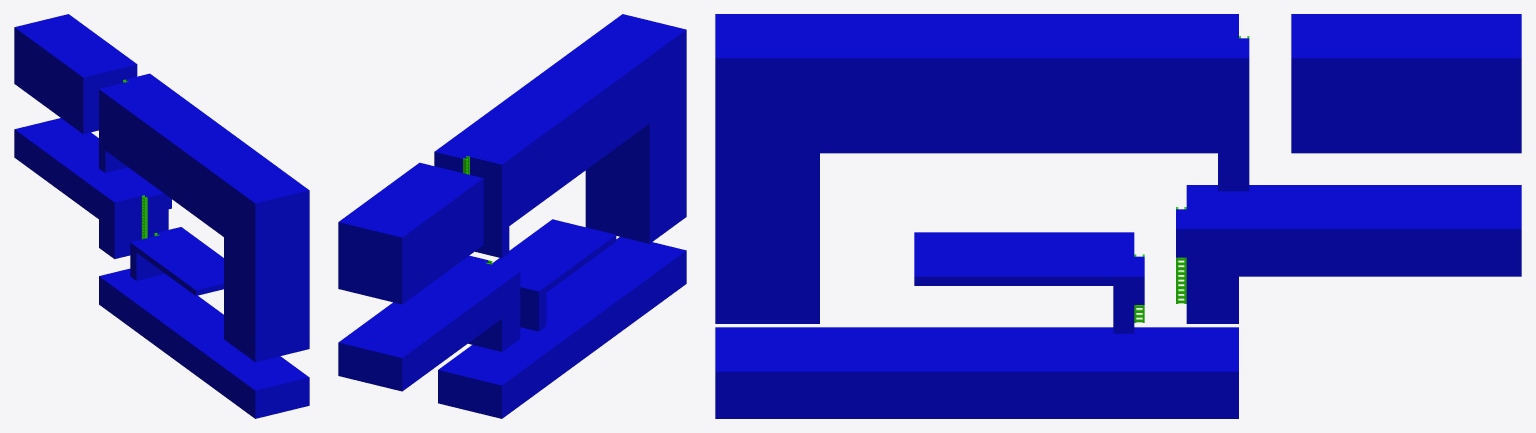
File: Level_3_scene8_colored.fbx
3 renders of one model, left to right at view 1: azimuth 30°, elevation 25°; view 2: azimuth 150°, elevation 25°; view 3: azimuth 270°, elevation 25°, orthographic. The views are drawn at different scales.
Visible parts, largest first — view 1: Cube.004, Cube.080, Cube.005, Cube.003; view 2: Cube.004, Cube.080, Cube.001; view 3: Cube.004, Cube.080, Cube.001.
Part boxes in pixels (<box>): Cube.004: <box>14,14,309,418</box>; Cube.080: <box>130,229,223,295</box>; Cube.005: <box>145,191,171,214</box>; Cube.003: <box>141,195,147,239</box>; Cube.004: <box>338,14,686,418</box>; Cube.080: <box>492,219,616,331</box>; Cube.001: <box>434,149,466,172</box>; Cube.004: <box>715,14,1521,418</box>; Cube.080: <box>914,232,1134,333</box>; Cube.001: <box>1239,38,1249,191</box>.
Bounding box in the file's own units: 1000 × 3800 × 7700.
